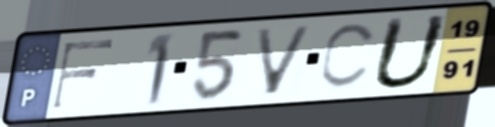1: (144, 31, 177, 108)
5: (187, 25, 248, 105)
C: (315, 20, 381, 93)
F: (48, 36, 118, 112)
U: (367, 12, 453, 92)
V: (252, 24, 316, 99)
